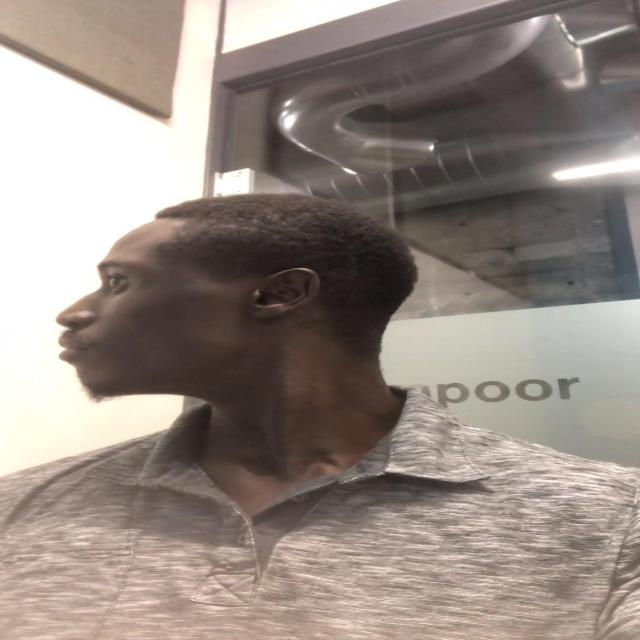face: (57, 225, 299, 405)
